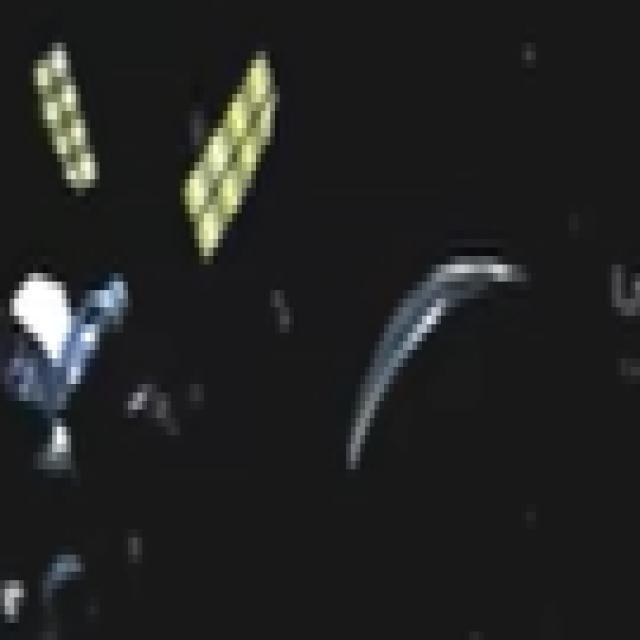large_debris: (168, 48, 290, 278)
medium_debris: (337, 252, 535, 464), (0, 263, 139, 409), (36, 33, 106, 201), (34, 549, 96, 640), (28, 421, 99, 494)
small_debris: (597, 259, 640, 339), (265, 288, 303, 340), (513, 42, 548, 79), (129, 376, 153, 423), (126, 532, 151, 572), (187, 374, 210, 416), (516, 508, 548, 538), (160, 416, 186, 444)
